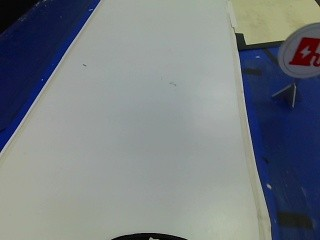battery: (280, 26, 318, 76)
